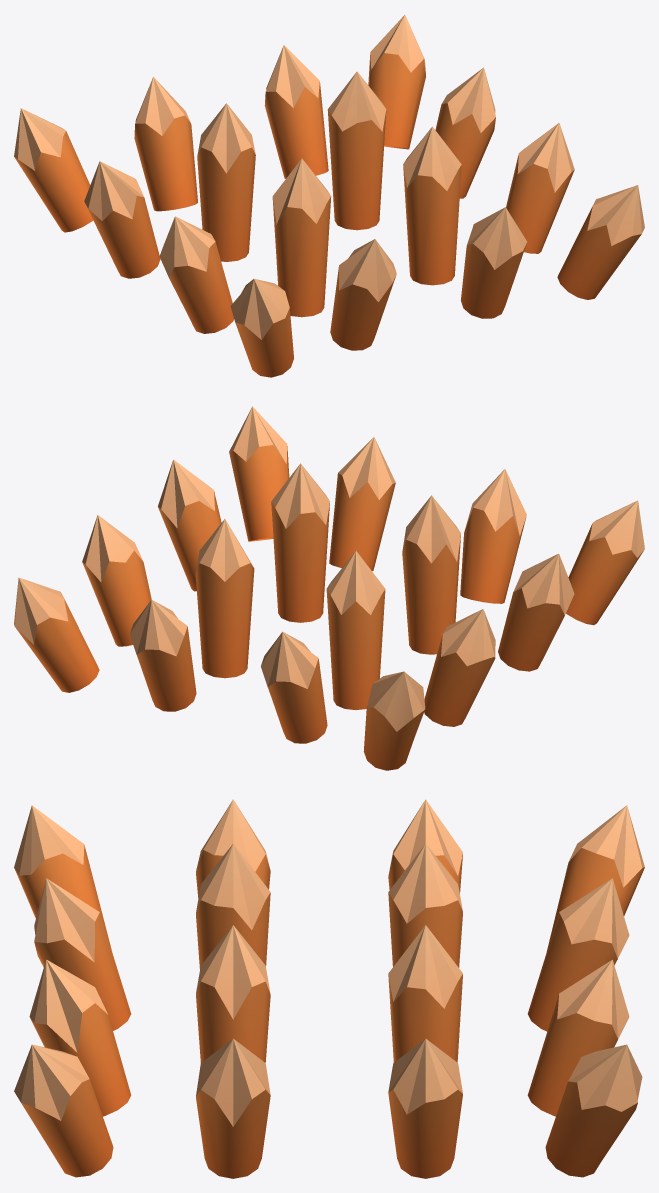
Rendered from Obstacle_Wooden_Spike_01.fbx.
3 renders of one model, top to bottom at view 1: azimuth 30°, elevation 25°; view 2: azimuth 150°, elevation 25°; view 3: azimuth 270°, elevation 25°, orthographic. The views are drawn at different scales.
Visible parts, largest first — view 1: Obstacle_Wooden_Spike_01; view 2: Obstacle_Wooden_Spike_01; view 3: Obstacle_Wooden_Spike_01.
Part boxes in pixels (box(x1,y1,x2,y2)): Obstacle_Wooden_Spike_01: box(14, 15, 644, 377); Obstacle_Wooden_Spike_01: box(14, 406, 644, 770); Obstacle_Wooden_Spike_01: box(14, 799, 644, 1178).
Size of the model in its own units: 179 by 62.85 by 188.
